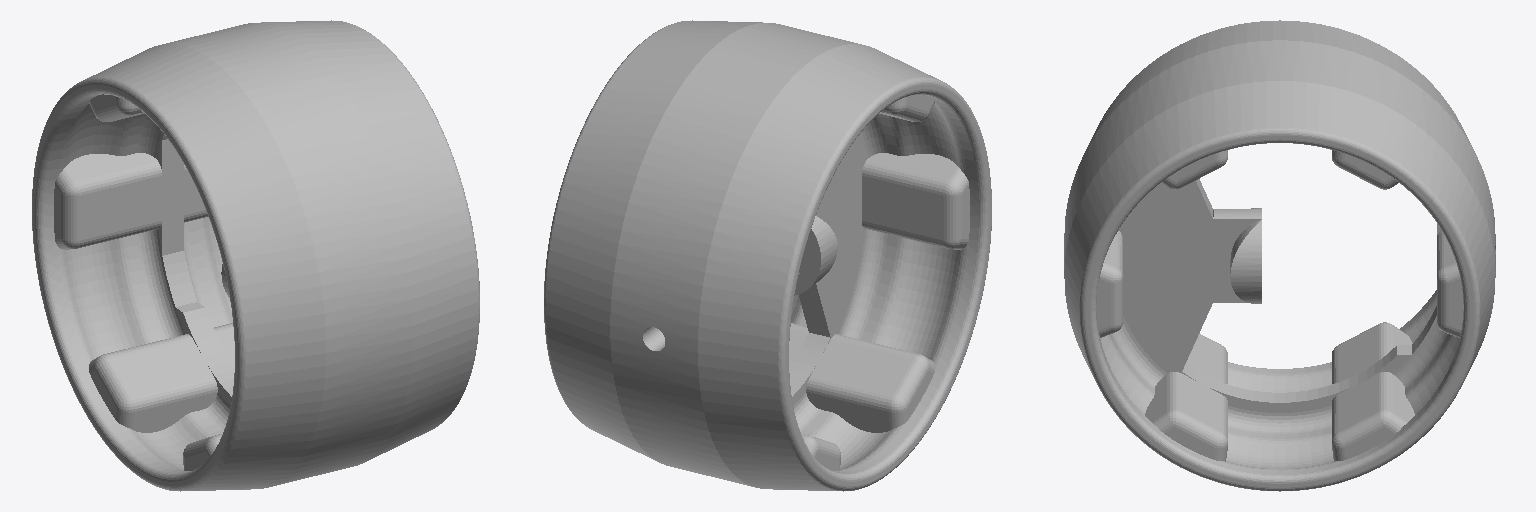
The robot description file, URDF, robot "root":
<?xml version='1.0' encoding='utf-8'?>
<robot name="root">
  <link name="link_001">
    <visual>
      <origin xyz="0 0 0" rpy="0 0 0" />
      <geometry>
        <mesh filename="f876f3b24114fe333950e5c33700108cce84de0914a0ff7918449c16401ecf89_scale_000.stl" scale="1.0000E+00 1.0000E+00 1.0000E+00" />
      </geometry>
      <material name="">
        <color rgba="7.50E-01 7.50E-01 7.50E-01 1" />
      </material>
    </visual>
    <collision>
      <origin xyz="0 0 0" rpy="0 0 0" />
      <geometry>
        <mesh filename="f876f3b24114fe333950e5c33700108cce84de0914a0ff7918449c16401ecf89_scale_000.stl" scale="1.0000E+00 1.0000E+00 1.0000E+00" />
      </geometry>
    </collision>
  </link>
</robot>

--- Render facts (derived) ---
Views: 3 orthographic renders of the robot side by side, from view 1: azimuth 30°, elevation 25°; view 2: azimuth 150°, elevation 25°; view 3: azimuth 270°, elevation 25°.
Model root with 1 links and 0 joints (none), rooted at link_001, posed every joint at zero.
Visible links, largest first — view 1: link_001; view 2: link_001; view 3: link_001.
Link boxes in pixels (box(x1,y1,x2,y2)): link_001: box(32, 20, 479, 491); link_001: box(544, 20, 991, 491); link_001: box(1064, 20, 1495, 491).
Bounding box of the posed robot: 0.0733 × 0.12 × 0.12 m (x, y, z).
Meshes: 1 distinct files referenced, 1 mesh visuals loaded (1 binary STL).
